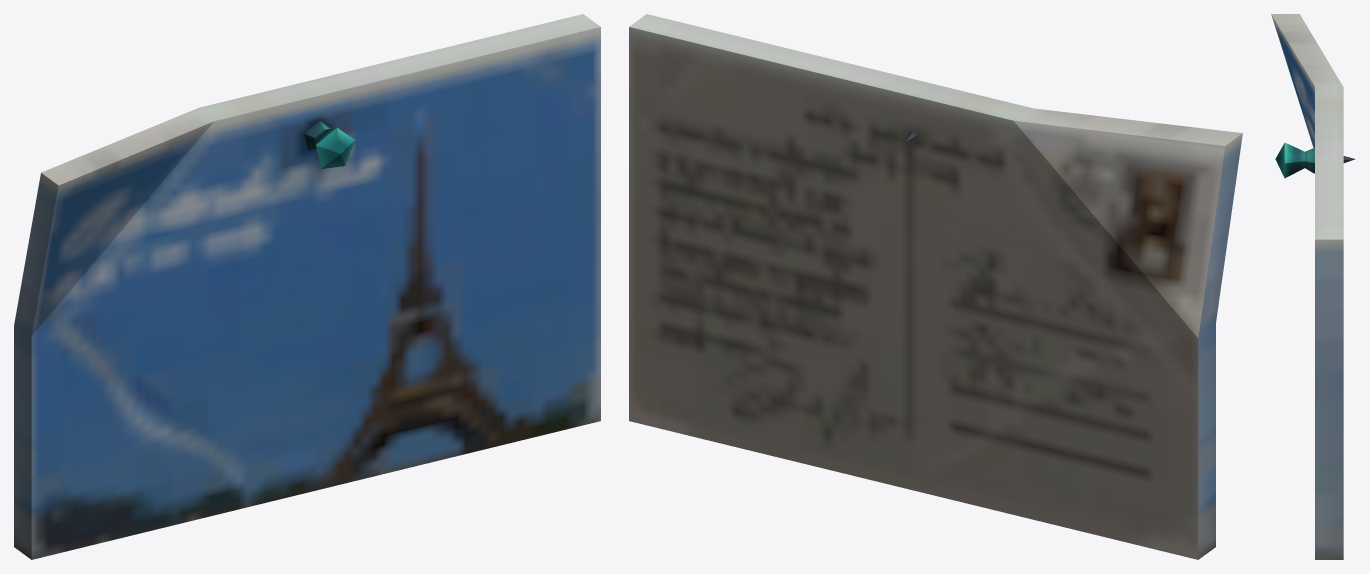
File: postal4.2.fbx
3 views of the same model, side by side, from view 1: azimuth 30°, elevation 25°; view 2: azimuth 150°, elevation 25°; view 3: azimuth 270°, elevation 25° (orthographic). The views are drawn at different scales.
Parts seen in each view (by area): view 1: s4studio_mesh_0; view 2: s4studio_mesh_0; view 3: s4studio_mesh_0.
Part boxes in pixels (x1,y1,x2,y2): s4studio_mesh_0: (14,14,600,559); s4studio_mesh_0: (629,14,1242,559); s4studio_mesh_0: (1271,14,1355,559).
Bounding box in the file's own units: 24.03 × 15.9 × 3.81.
1 material, 1 textured.
